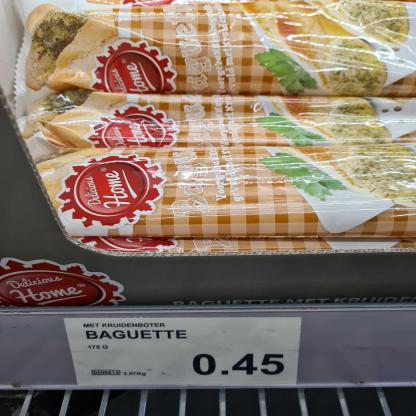prtg: (65, 318, 303, 387)
